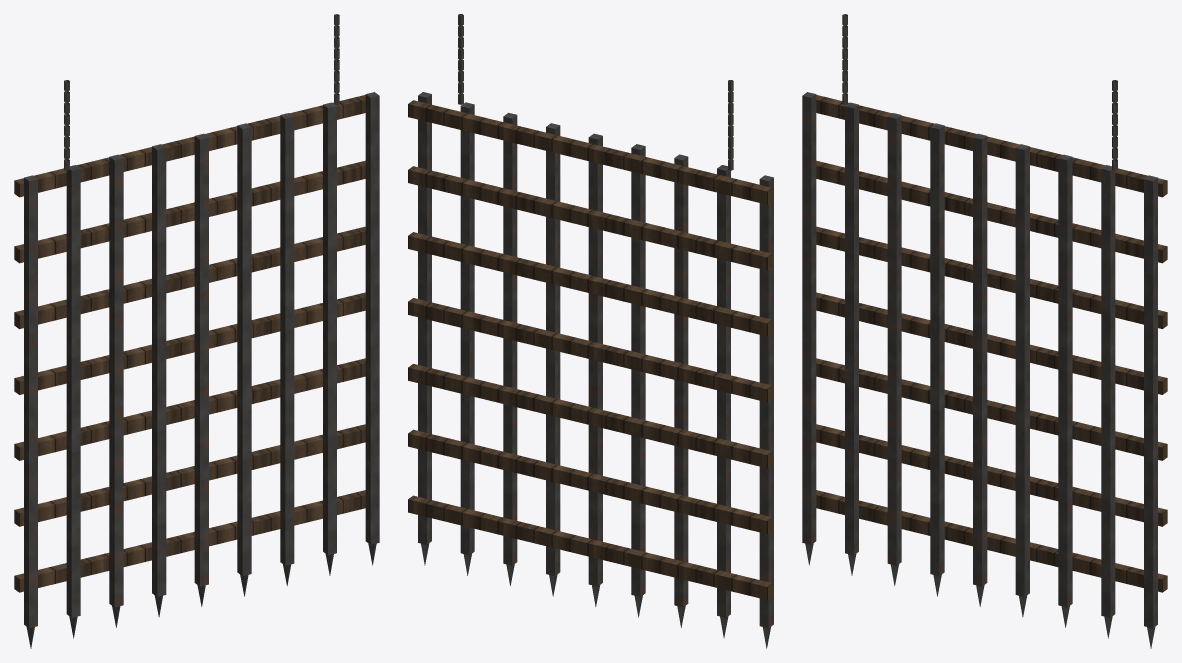
Rendered from Portcullis_1.gltf.
The picture shows the model from 3 angles, left to right: view 1: azimuth 30°, elevation 25°; view 2: azimuth 150°, elevation 25°; view 3: azimuth 330°, elevation 25°; orthographic projection.
Visible parts, largest first — view 1: Portcullis_1; view 2: Portcullis_1; view 3: Portcullis_1.
Boxes of the visible parts, left/top/right/bottom form: Portcullis_1: left=14, top=14, right=379, bottom=648; Portcullis_1: left=408, top=14, right=773, bottom=648; Portcullis_1: left=802, top=14, right=1167, bottom=648.
Size of the model in its own units: 4 by 5.94 by 0.2.
2 materials, 2 textured.
